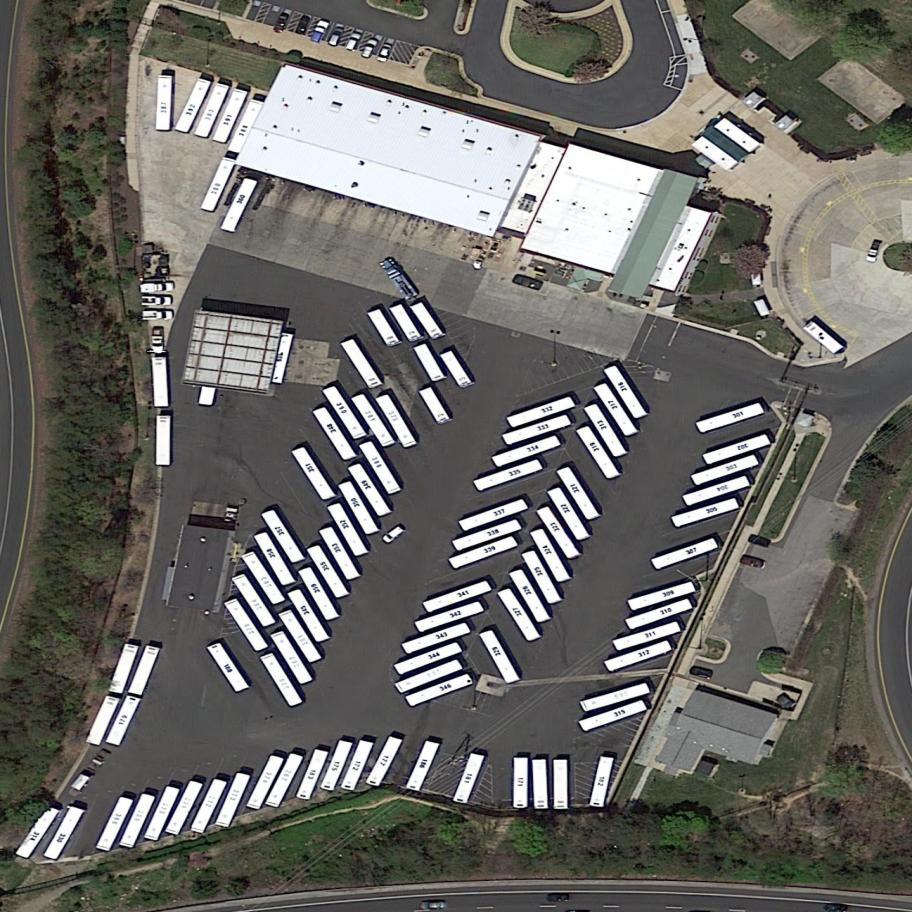large-vehicle: (231, 570, 278, 631), (321, 382, 368, 443), (261, 505, 307, 567), (241, 548, 287, 609), (291, 443, 337, 503), (351, 390, 397, 450), (583, 401, 629, 461), (575, 423, 621, 483), (496, 585, 541, 646), (14, 803, 61, 861), (535, 503, 581, 562), (278, 606, 323, 666), (347, 460, 392, 520), (312, 403, 357, 463), (259, 650, 304, 710), (42, 803, 86, 864), (547, 483, 591, 544), (472, 456, 544, 493), (224, 595, 269, 654), (603, 362, 648, 421), (593, 380, 638, 439), (556, 463, 600, 523), (253, 528, 296, 589), (307, 542, 351, 601), (270, 628, 314, 687), (491, 433, 563, 469), (394, 658, 464, 695), (318, 523, 361, 583), (327, 499, 370, 559), (375, 392, 418, 452), (508, 566, 551, 626), (423, 578, 494, 614), (400, 621, 473, 656), (287, 586, 330, 645), (297, 564, 340, 623), (359, 438, 402, 497), (577, 699, 649, 734), (478, 627, 520, 687), (457, 497, 529, 532), (529, 525, 571, 585), (603, 638, 674, 673), (405, 672, 474, 708), (650, 535, 719, 571), (450, 518, 523, 552), (118, 790, 158, 852), (264, 750, 304, 812), (338, 478, 380, 537), (95, 794, 135, 855), (245, 752, 285, 813), (394, 641, 463, 676), (413, 601, 486, 634), (579, 681, 652, 714), (340, 336, 383, 392), (207, 640, 250, 696), (219, 175, 259, 235), (164, 778, 204, 838), (624, 597, 694, 631), (521, 548, 562, 606), (681, 475, 752, 508), (690, 453, 761, 486), (695, 401, 766, 434), (501, 413, 572, 446), (700, 433, 773, 465), (211, 85, 249, 146), (143, 783, 181, 844), (190, 776, 228, 837), (214, 770, 252, 831), (612, 619, 682, 652), (174, 76, 212, 135), (227, 96, 265, 155), (506, 396, 576, 428), (104, 692, 143, 749), (365, 733, 404, 790), (193, 80, 230, 140), (671, 496, 740, 528), (200, 154, 236, 215), (627, 581, 698, 611), (404, 737, 441, 794), (85, 692, 122, 748), (451, 750, 486, 807), (295, 746, 330, 803), (320, 737, 354, 794), (127, 643, 161, 698), (340, 738, 374, 793), (380, 255, 418, 302), (108, 641, 140, 696), (801, 317, 845, 357), (366, 306, 401, 349), (389, 301, 423, 344), (413, 341, 446, 385), (439, 348, 473, 390), (410, 299, 444, 341), (589, 755, 615, 809), (418, 384, 451, 426), (271, 332, 295, 386), (531, 758, 551, 810), (155, 75, 173, 131), (152, 356, 169, 408), (155, 415, 172, 466), (513, 757, 529, 808), (553, 759, 568, 810)
small-vehicle: (309, 17, 332, 46), (513, 273, 544, 294), (381, 522, 408, 546), (343, 29, 364, 54), (359, 36, 380, 61), (271, 10, 291, 36), (738, 553, 766, 571), (138, 281, 175, 294), (327, 25, 346, 50), (866, 238, 884, 264), (688, 663, 714, 681), (150, 325, 166, 354), (375, 40, 394, 64), (294, 12, 312, 36), (138, 295, 173, 306), (139, 309, 173, 320), (420, 901, 449, 910), (545, 893, 570, 903)
